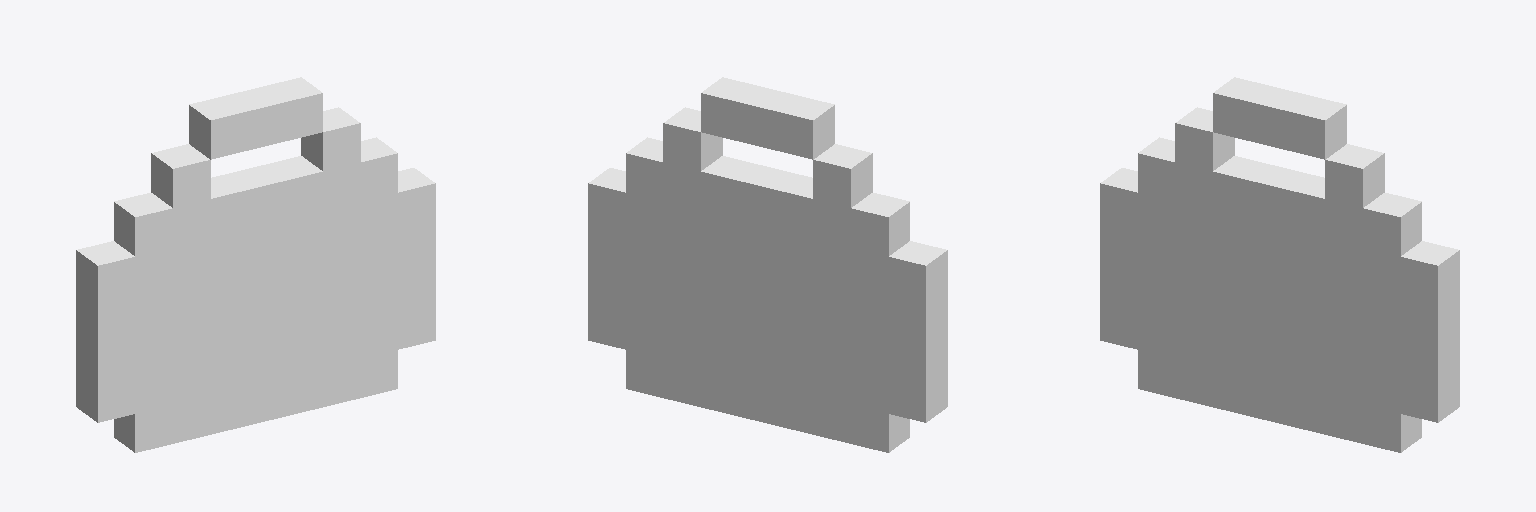
The model's file is medkit1.obj.
The picture shows the model from 3 angles: view 1: azimuth 30°, elevation 25°; view 2: azimuth 150°, elevation 25°; view 3: azimuth 330°, elevation 25°; orthographic projection.
Visible parts, largest first — view 1: object 1; view 2: object 1; view 3: object 1.
Part boxes in pixels (left/top/right/bottom): object 1: left=76, top=77, right=435, bottom=452; object 1: left=588, top=77, right=947, bottom=452; object 1: left=1100, top=77, right=1459, bottom=452.
Size of the model in its own units: 0.9 by 0.8 by 0.1.